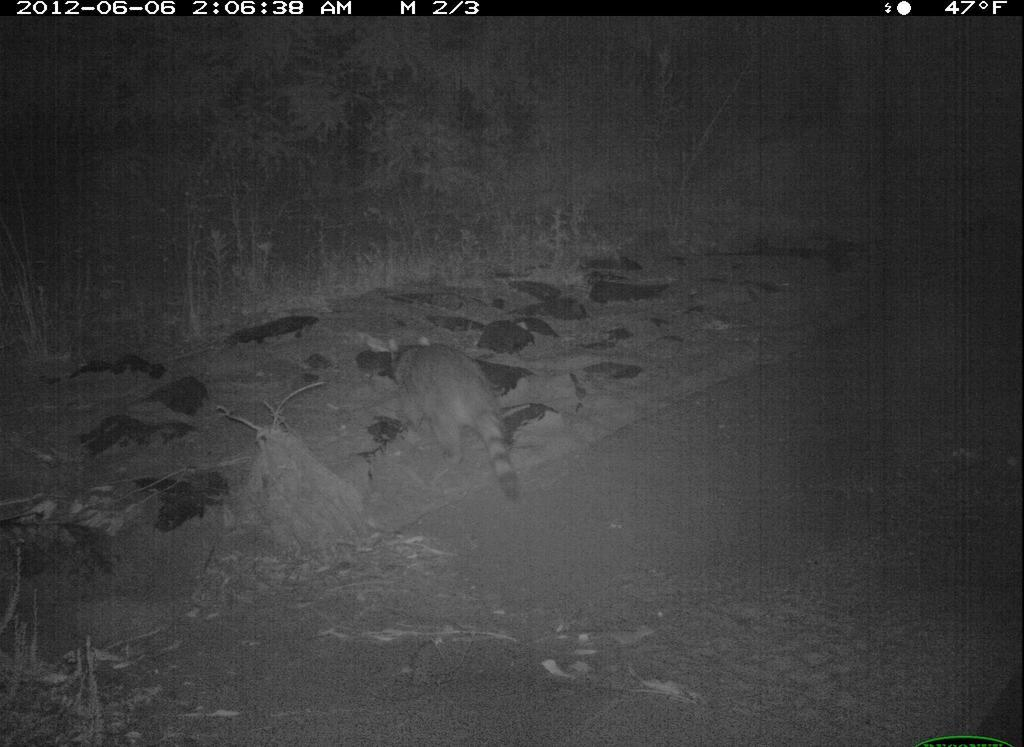raccoon: (382, 332, 533, 513)
